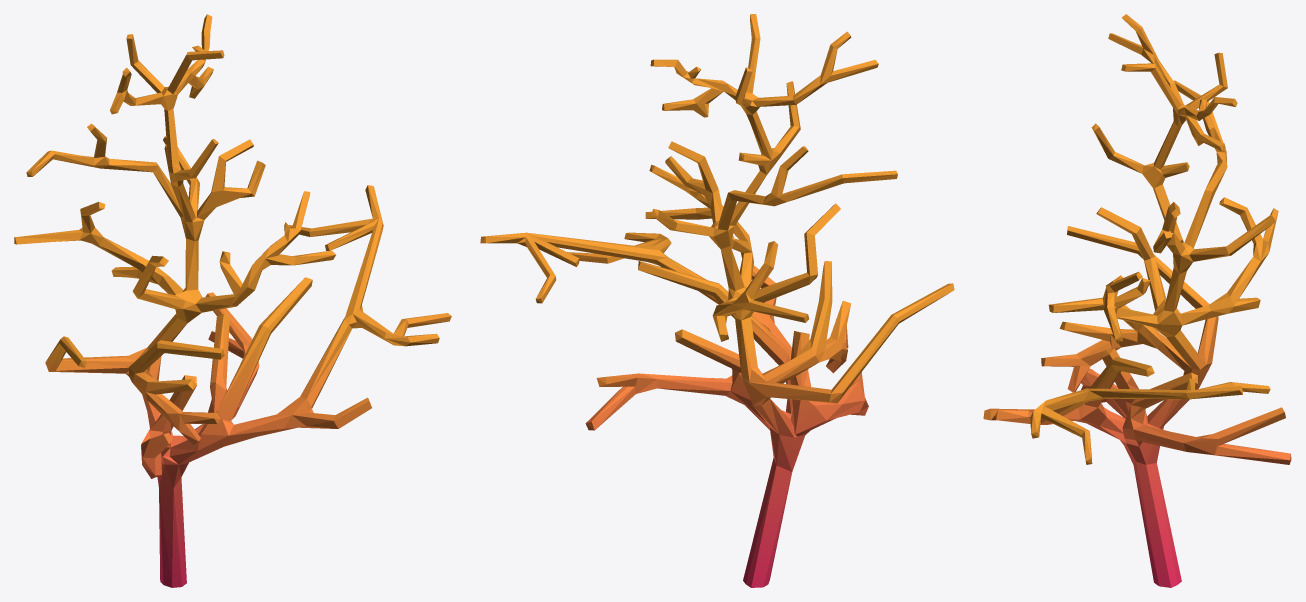
Rendered from SM_Coral_8.fbx.
3 views of the same model, side by side, from view 1: azimuth 30°, elevation 25°; view 2: azimuth 150°, elevation 25°; view 3: azimuth 270°, elevation 25° (orthographic). The views are drawn at different scales.
Visible parts, largest first — view 1: Coral_8; view 2: Coral_8; view 3: Coral_8.
Boxes of the visible parts, box(x1,y1,x2,y2) form: Coral_8: box(14, 14, 451, 587); Coral_8: box(480, 14, 954, 587); Coral_8: box(983, 14, 1291, 587).
Size of the model in its own units: 138 by 189 by 98.27.
